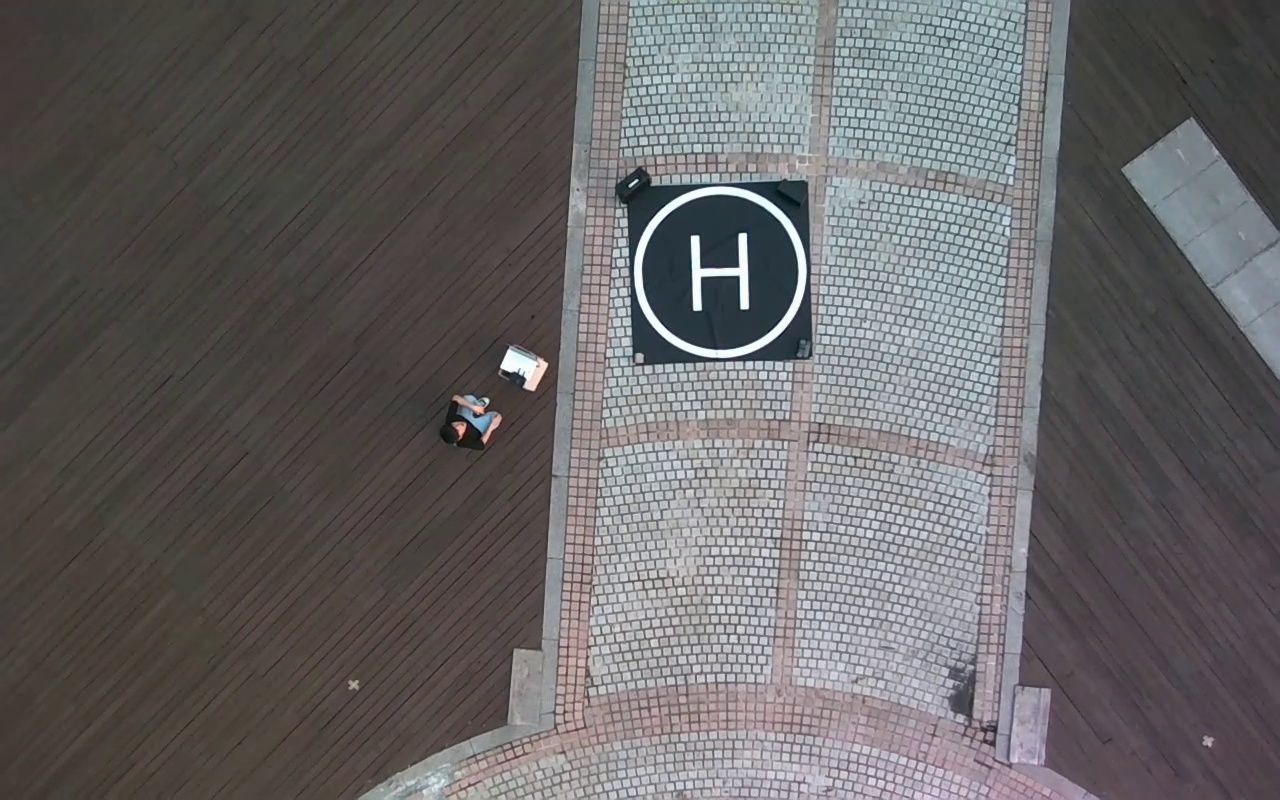H: (687, 231, 750, 310)
heliport: (634, 185, 808, 355)
